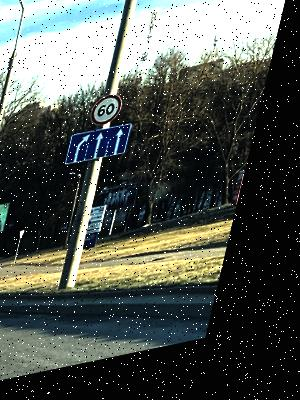Speed Limit -60-: (91, 95, 132, 134)
